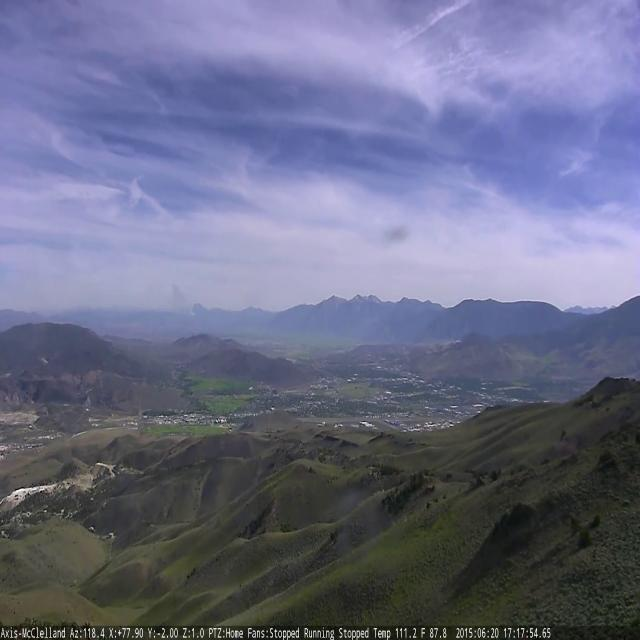smoke: (154, 280, 195, 316)
